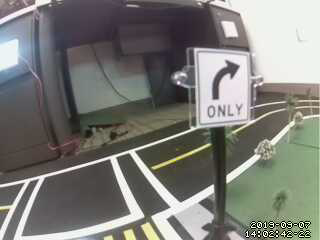Right_only_sign: (188, 50, 252, 117)
